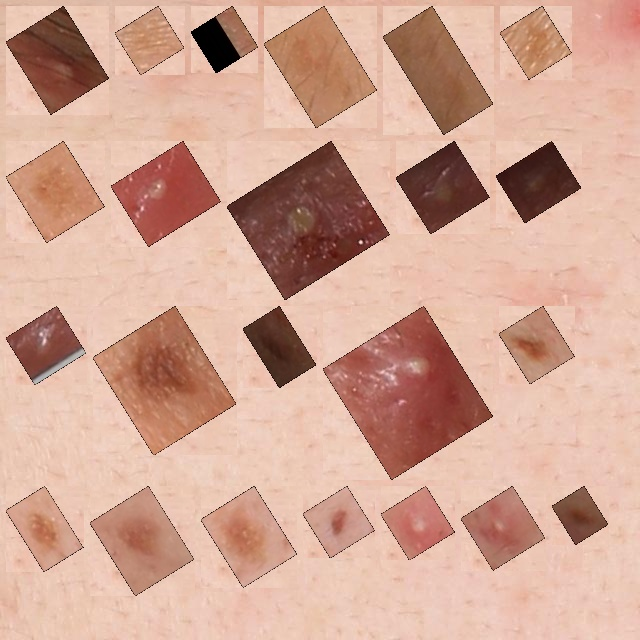melasma: (394, 17, 482, 123), (275, 17, 366, 117), (17, 152, 93, 231), (511, 17, 561, 68), (126, 17, 173, 64), (202, 17, 247, 62)
nevus: (104, 317, 225, 444), (101, 497, 183, 584), (212, 497, 286, 576), (17, 497, 72, 560), (254, 317, 305, 376), (510, 317, 563, 373), (314, 497, 364, 547), (563, 497, 597, 533)
pustule: (334, 317, 482, 468), (238, 152, 379, 288), (122, 152, 210, 235), (17, 17, 98, 103), (407, 152, 478, 223), (472, 497, 534, 559), (507, 152, 570, 212), (17, 317, 75, 373), (392, 497, 444, 549)
